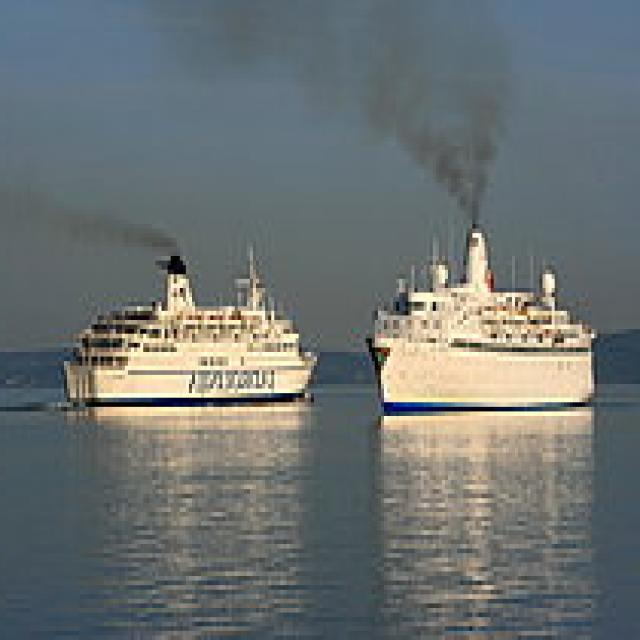Cruise: (366, 215, 600, 416), (61, 233, 323, 407)
